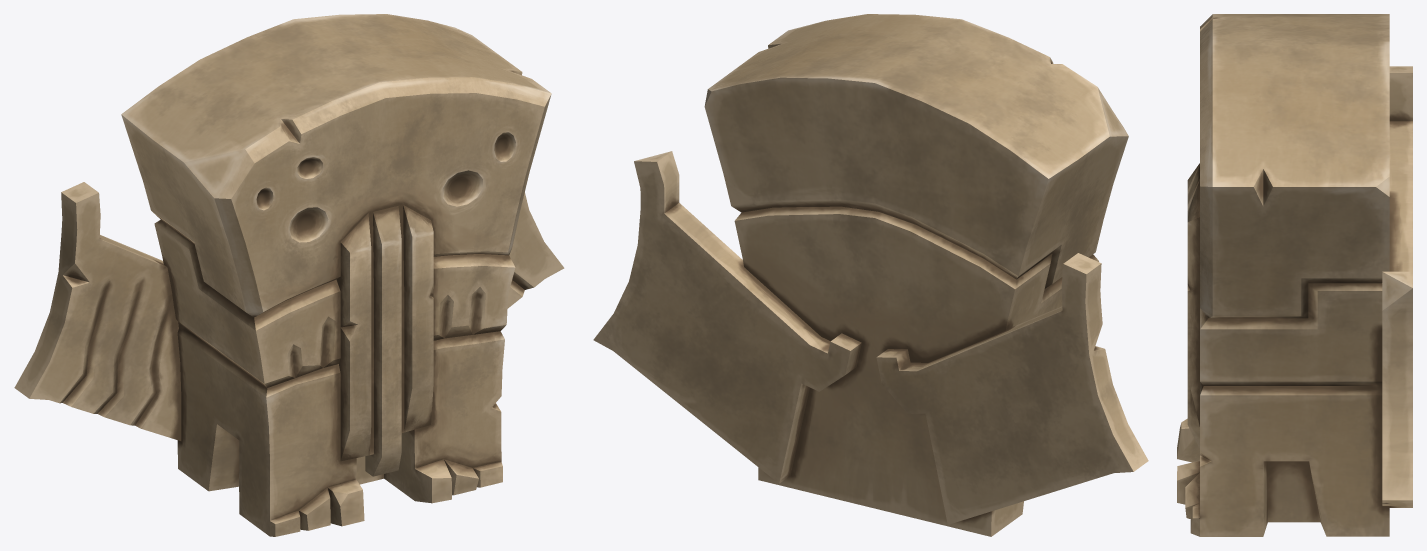
File: cthulhu lp.fbx
3 renders of one model, left to right at view 1: azimuth 30°, elevation 25°; view 2: azimuth 150°, elevation 25°; view 3: azimuth 270°, elevation 25°, orthographic. The views are drawn at different scales.
Parts seen in each view (by area): view 1: cthulhu lp; view 2: cthulhu lp; view 3: cthulhu lp.
Boxes of the visible parts, x1,y1,x2,y2 form: cthulhu lp: (14, 14, 564, 536); cthulhu lp: (593, 14, 1148, 536); cthulhu lp: (1177, 14, 1412, 536).
Size of the model in its own units: 133 by 100 by 49.48.
Materials: 1 (1 with a texture image).
